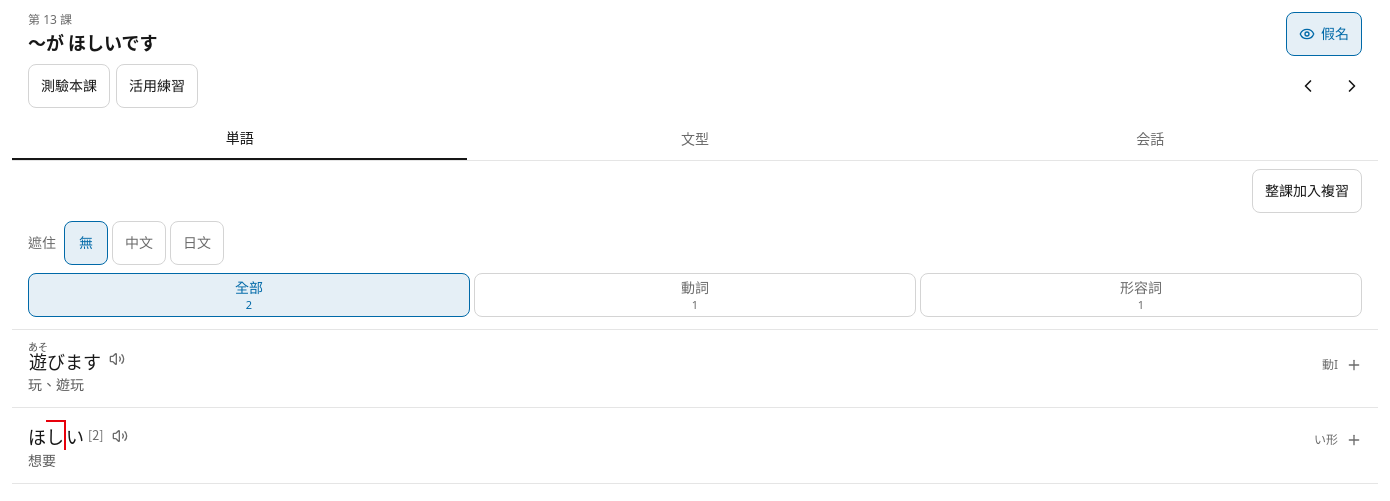
Test: LessonDetail › 分頁為 aria-pressed 分段按鈕:一次只按下一個,不宣告 tab 語意
Check: the text "玩、遊玩" is shown, box [28,375,84,394]
Click the button "会話".
click(1150, 138)  # box [923,116,1378,160]
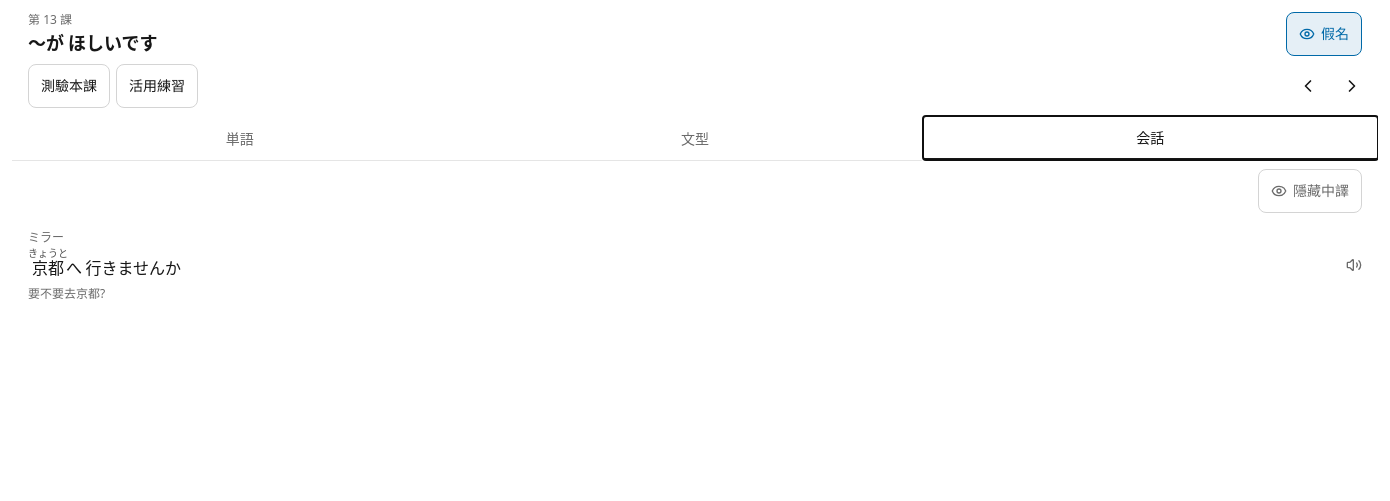
Check: the text "要不要去京都?" is shown, box [28,285,105,302]
